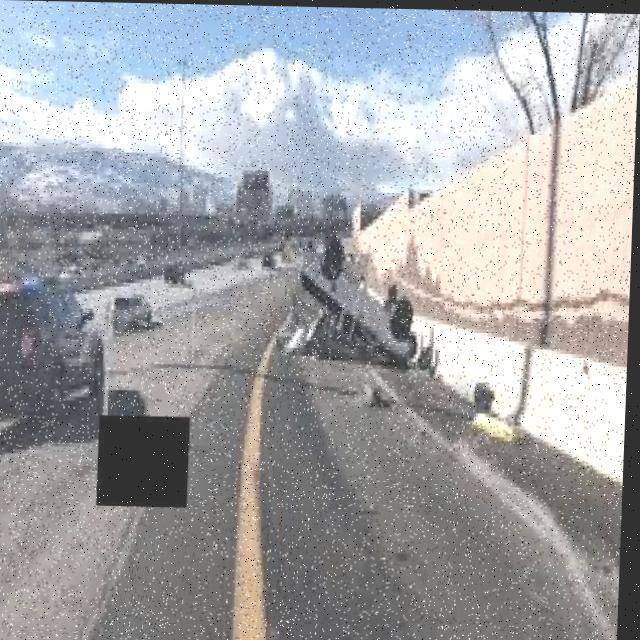normal: (0, 256, 166, 445)
single accident: (236, 216, 448, 385)
